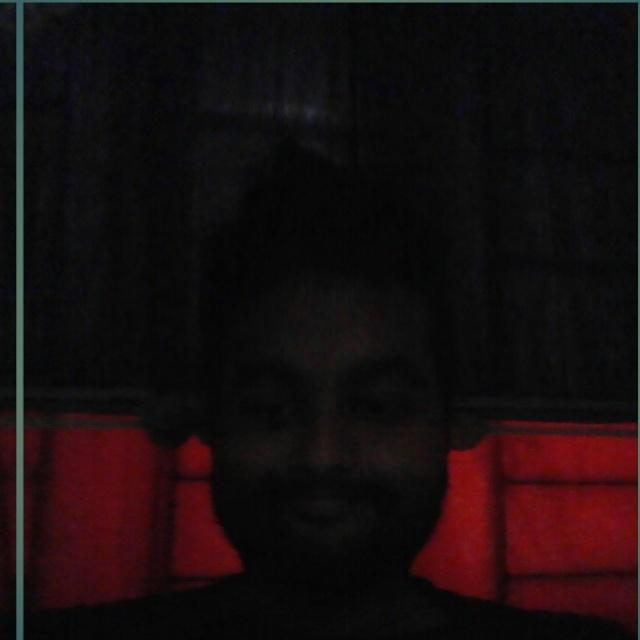Happy: (160, 270, 474, 577)
